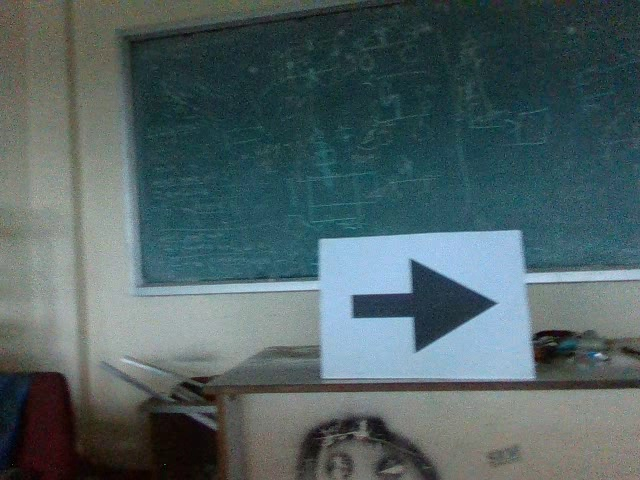Right: (337, 254, 506, 357)
